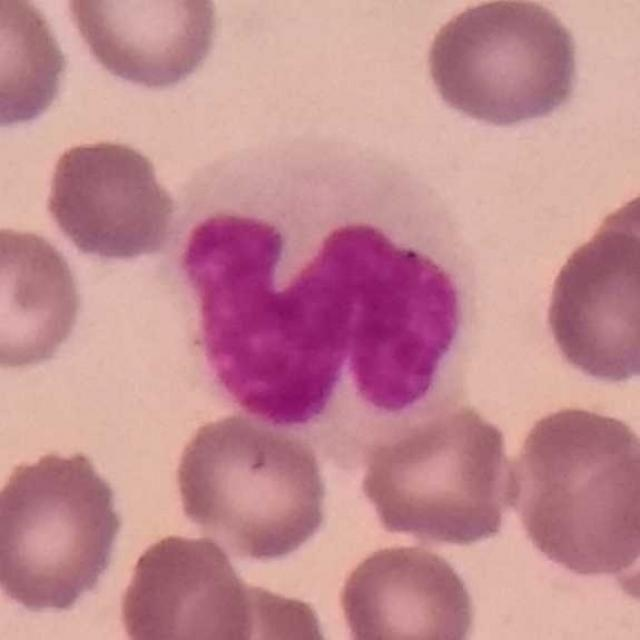Monocyte: (166, 141, 482, 451)
RBC: (168, 408, 333, 566), (354, 401, 524, 550), (501, 400, 640, 582), (0, 442, 130, 615), (419, 0, 586, 131), (39, 132, 181, 266), (538, 225, 640, 388), (113, 527, 257, 640), (59, 0, 226, 96), (334, 538, 482, 640), (0, 219, 88, 376), (181, 576, 341, 640), (583, 440, 640, 616), (0, 0, 73, 134), (590, 177, 640, 348)
